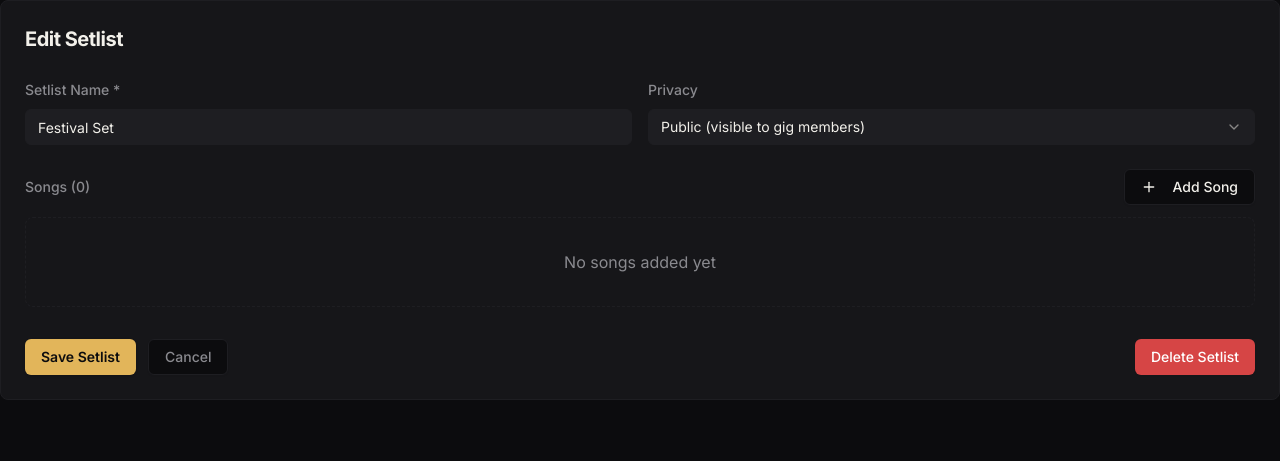
Test: SetlistEditor › handles database error gracefully when saving fails
Click the button "Save Setlist": (80, 357) [25,339,136,375]
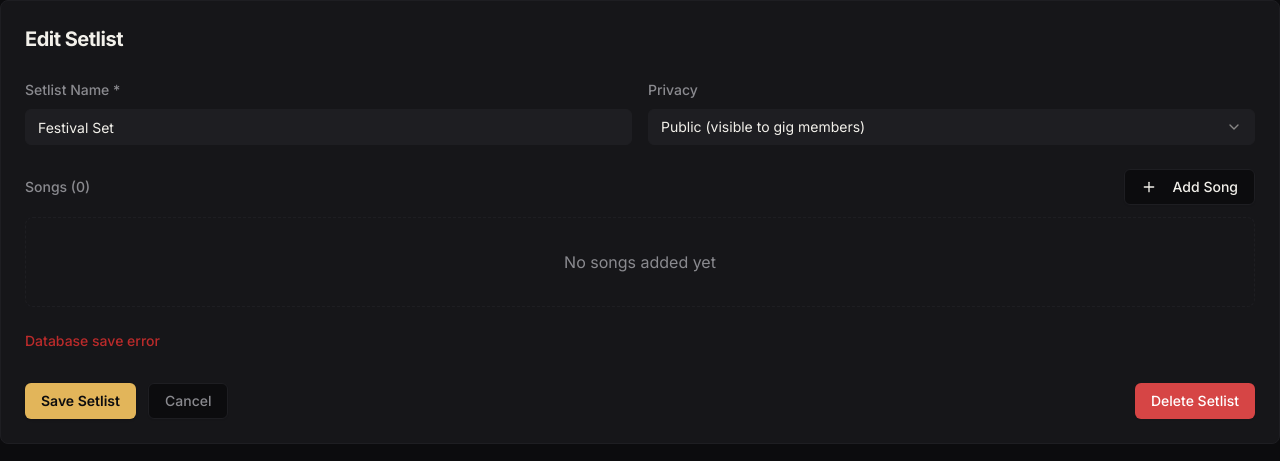
Expected: the text "Database save error" is shown, [25,332,160,349]
